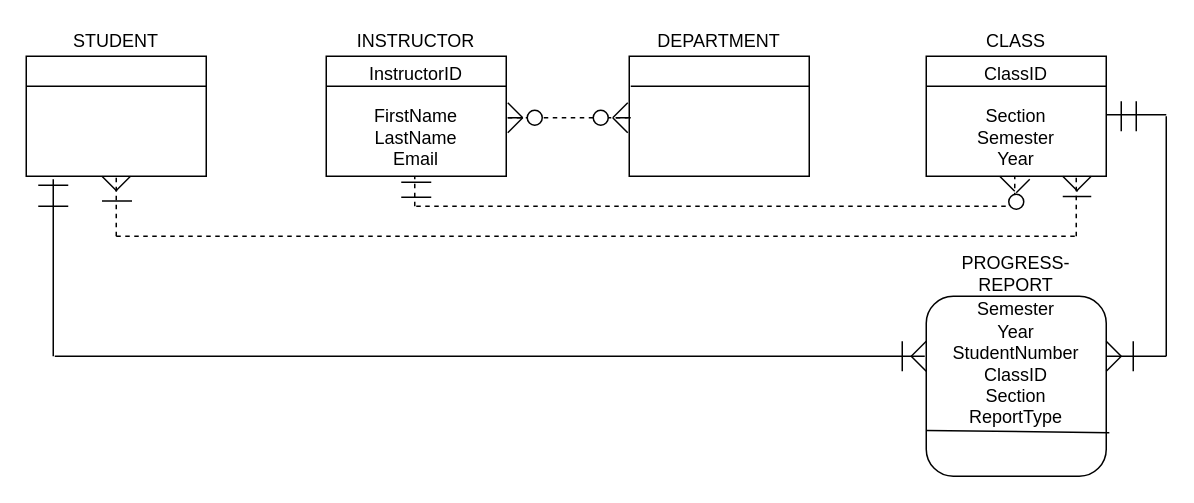
The diagram is 1194 pixels wide and 503 high, and some of its shapes have lost their labels. Each missing label, with the box of its shape:
DepartmentID DepartmentName DepartmentPhone: (628, 55, 809, 176)
StudentNumber LastName FirstName: (25, 55, 206, 176)
